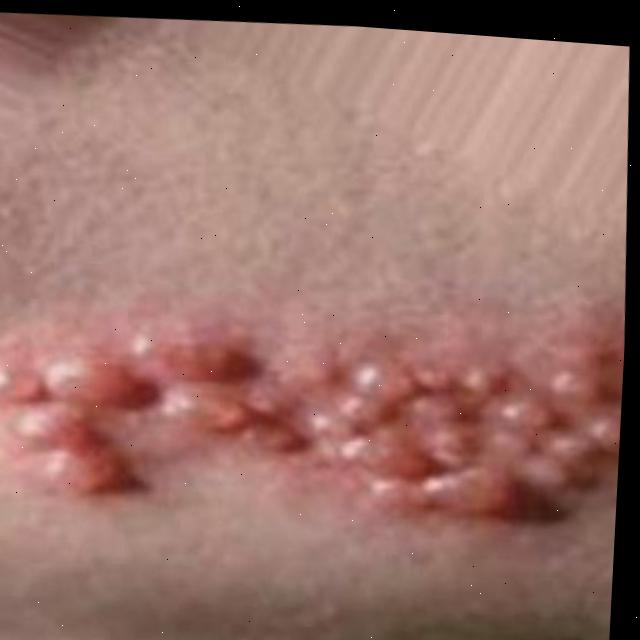Shingles: (0, 295, 625, 549)
